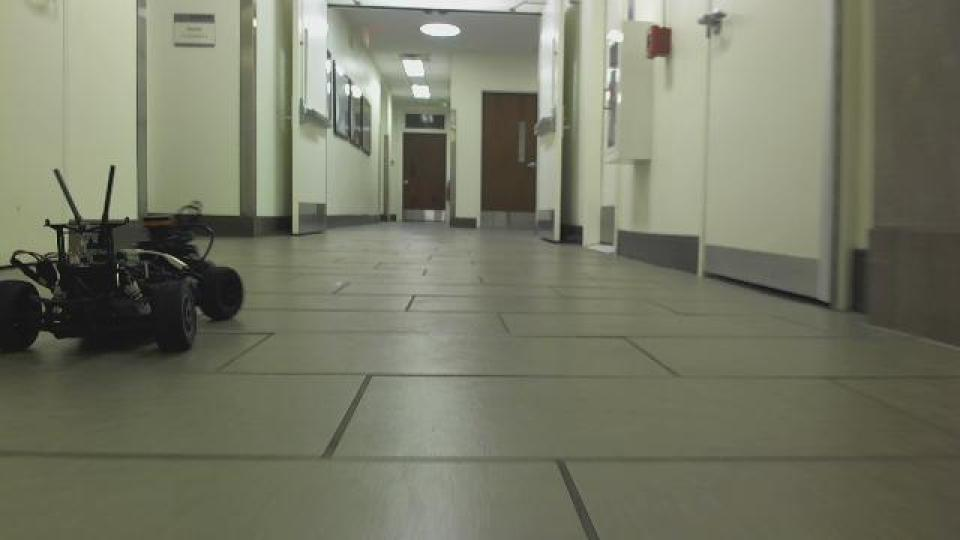car: (2, 162, 246, 357)
